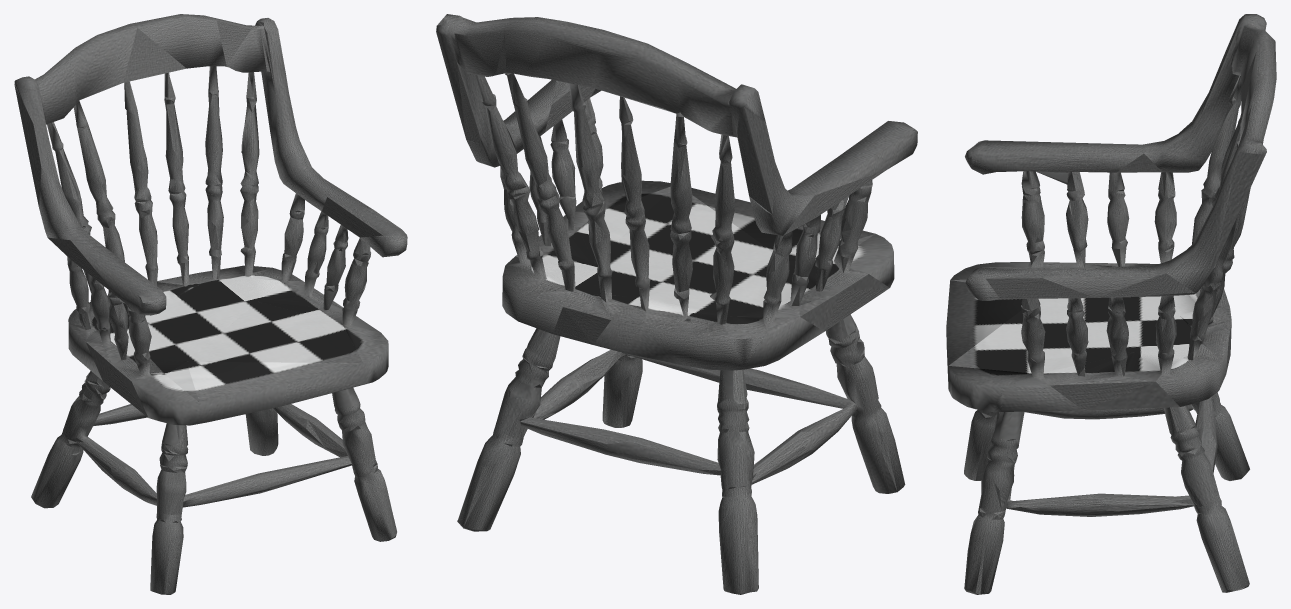
File: ChaiseBlockhaus.fbx
The picture shows the model from 3 angles, left to right: view 1: azimuth 30°, elevation 25°; view 2: azimuth 150°, elevation 25°; view 3: azimuth 270°, elevation 25°; orthographic projection. The views are drawn at different scales.
Visible parts, largest first — view 1: Mesh_0; view 2: Mesh_0; view 3: Mesh_0.
Boxes of the visible parts, x1=… form: Mesh_0: x1=14, y1=14, x2=407, y2=594; Mesh_0: x1=436, y1=14, x2=917, y2=594; Mesh_0: x1=946, y1=14, x2=1276, y2=594.
Size of the model in its own units: 119 by 190 by 119.
1 material, 1 textured.
